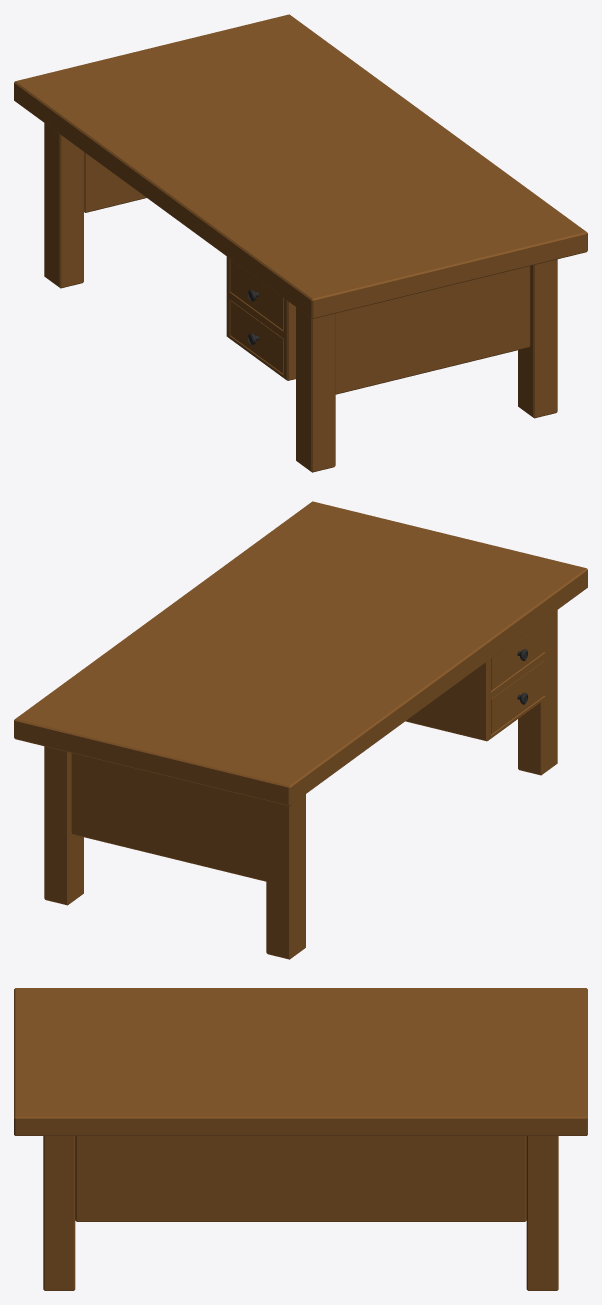
The model's file is furniture_table2.fbx.
The picture shows the model from 3 angles, top to bottom: view 1: azimuth 30°, elevation 25°; view 2: azimuth 150°, elevation 25°; view 3: azimuth 270°, elevation 25°; orthographic projection. The views are drawn at different scales.
Visible parts, largest first — view 1: furniture_table2, furniture_table2drawer.001, furniture_table2drawer; view 2: furniture_table2, furniture_table2drawer.001, furniture_table2drawer; view 3: furniture_table2.
Boxes of the visible parts, bbox=[...] form: furniture_table2: bbox=[14, 14, 587, 472]; furniture_table2drawer.001: bbox=[230, 300, 283, 373]; furniture_table2drawer: bbox=[230, 259, 283, 330]; furniture_table2: bbox=[14, 501, 587, 959]; furniture_table2drawer.001: bbox=[491, 661, 544, 734]; furniture_table2drawer: bbox=[491, 620, 544, 690]; furniture_table2: bbox=[14, 988, 587, 1290].
Size of the model in its own units: 107 by 69.95 by 201.
